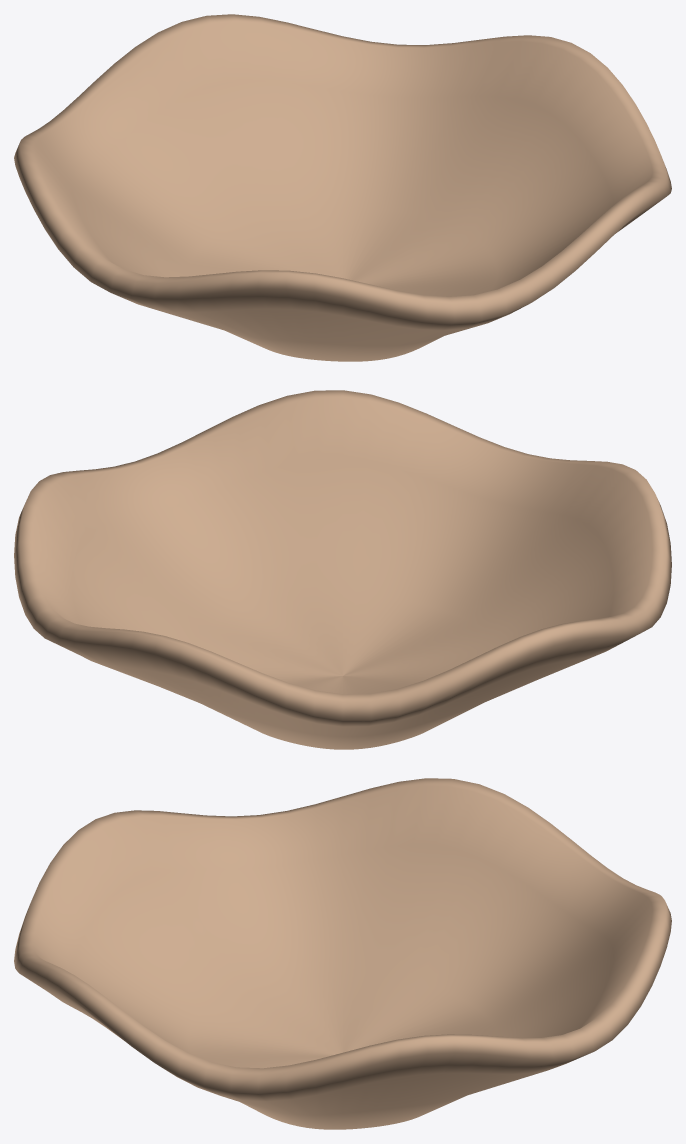
Rendered from decor_bowl.glb.
3 renders of one model, top to bottom at view 1: azimuth 30°, elevation 25°; view 2: azimuth 150°, elevation 25°; view 3: azimuth 270°, elevation 25°, orthographic.
Visible parts, largest first — view 1: decor_bowl__body; view 2: decor_bowl__body; view 3: decor_bowl__body.
Part boxes in pixels (x1,y1,x2,y2): decor_bowl__body: [14, 14, 671, 361]; decor_bowl__body: [14, 390, 671, 749]; decor_bowl__body: [14, 778, 671, 1129].
Bounding box in the file's own units: 0.34 × 0.1018 × 0.34.
